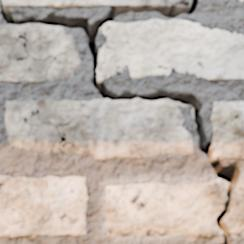brick: (5, 99, 191, 158), (98, 20, 243, 80), (0, 176, 87, 236), (0, 25, 80, 82), (211, 102, 243, 159), (3, 0, 176, 7), (63, 145, 72, 151)
broken_brick: (105, 178, 227, 237), (225, 181, 243, 234)
crack: (0, 0, 243, 243), (42, 120, 75, 150), (0, 183, 4, 190)
